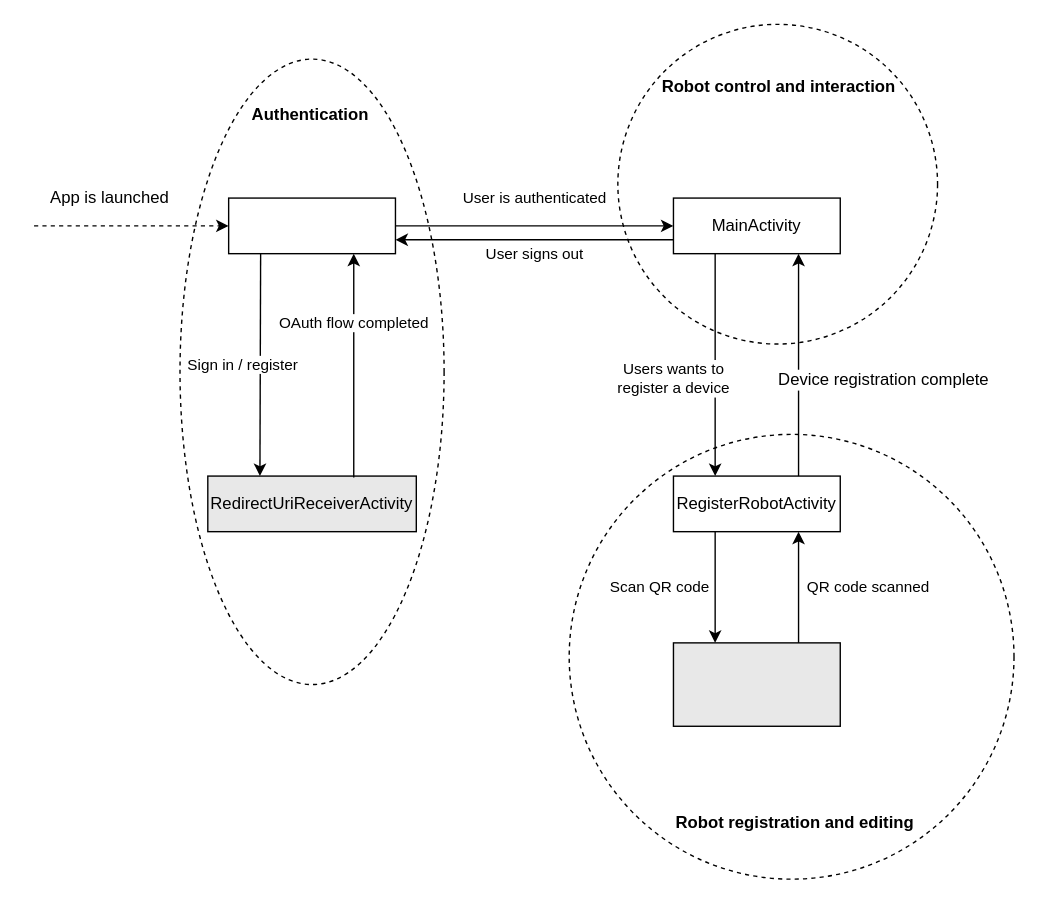
The diagram is 1038 pixels wide and 904 high, and some of its shapes have lost their labels. The centre of each missing label's shape, as x and y in pixels:
AuthenticationActivity: point 311,225
CaptureActivity: point 756,683
